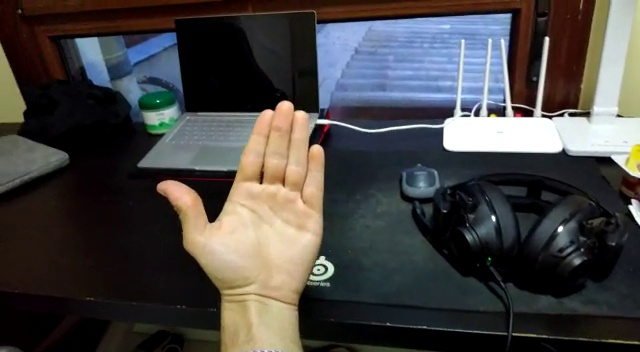Palm: (153, 100, 331, 317)
